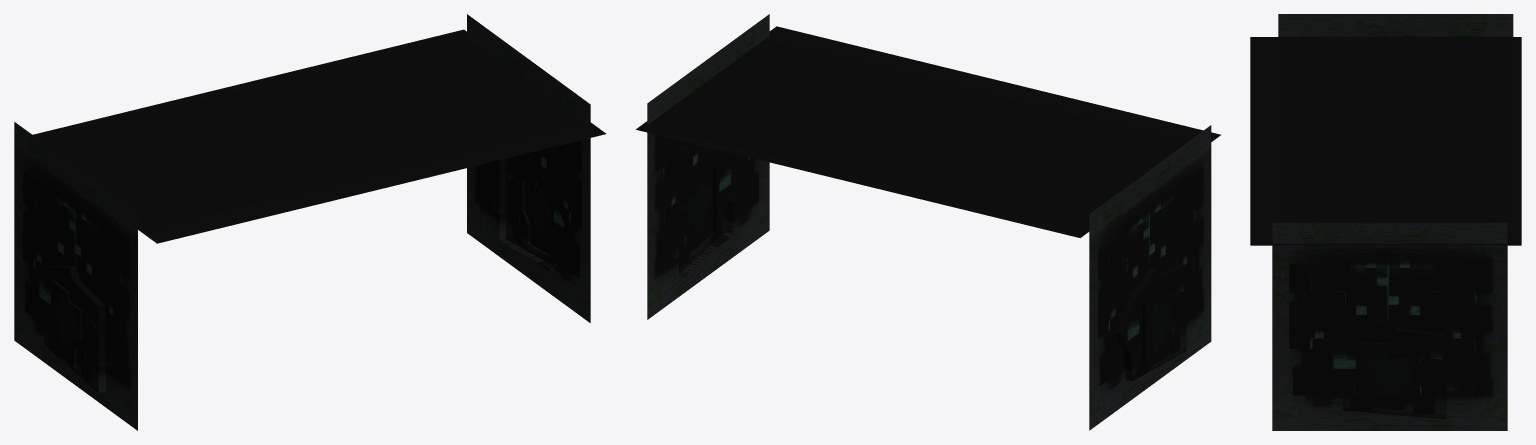
The model's file is DungeonRoomBases2Panels.fbx.
3 views of the same model, side by side, from view 1: azimuth 30°, elevation 25°; view 2: azimuth 150°, elevation 25°; view 3: azimuth 270°, elevation 25° (orthographic). The views are drawn at different scales.
Visible parts, largest first — view 1: Plane.001; view 2: Plane.001; view 3: Plane.001.
Boxes of the visible parts, x1=… form: Plane.001: x1=14, y1=14, x2=606, y2=430; Plane.001: x1=636, y1=14, x2=1220, y2=430; Plane.001: x1=1250, y1=14, x2=1521, y2=430.
Size of the model in its own units: 4962 by 2213 by 2614.
Materials: 1 (1 with a texture image).
